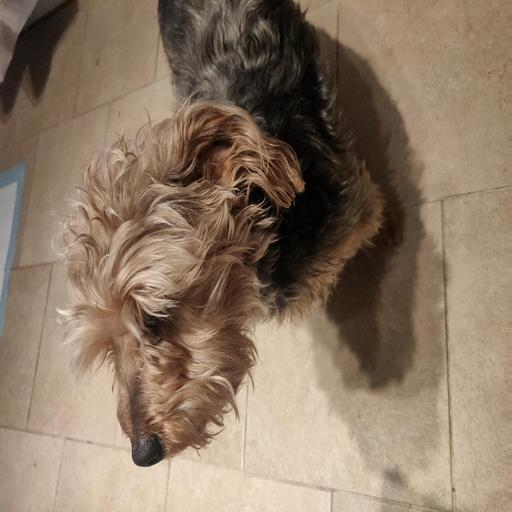dog: (62, 124, 406, 468)
